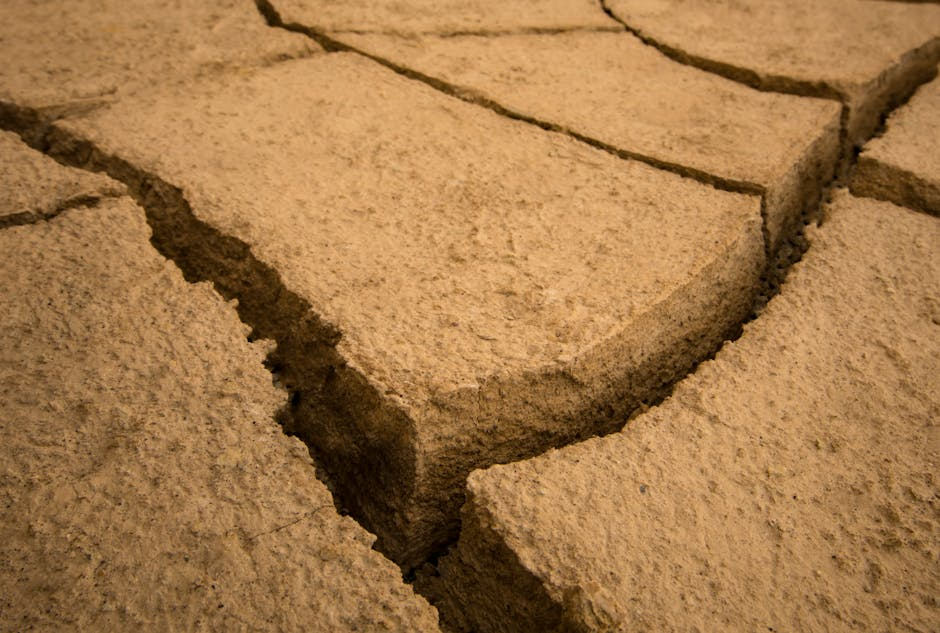深大裂缝: (15, 110, 402, 620), (455, 275, 817, 534)
细微裂纹: (238, 0, 777, 247)
